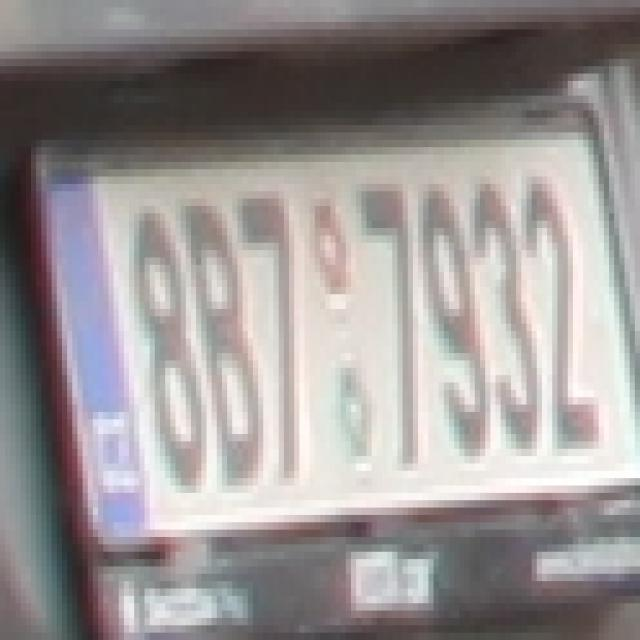2: (521, 184, 594, 449)
3: (475, 184, 542, 449)
7: (248, 191, 304, 486), (361, 176, 413, 471)
8: (124, 198, 206, 493)
9: (418, 184, 496, 449)
B: (180, 198, 258, 493)
